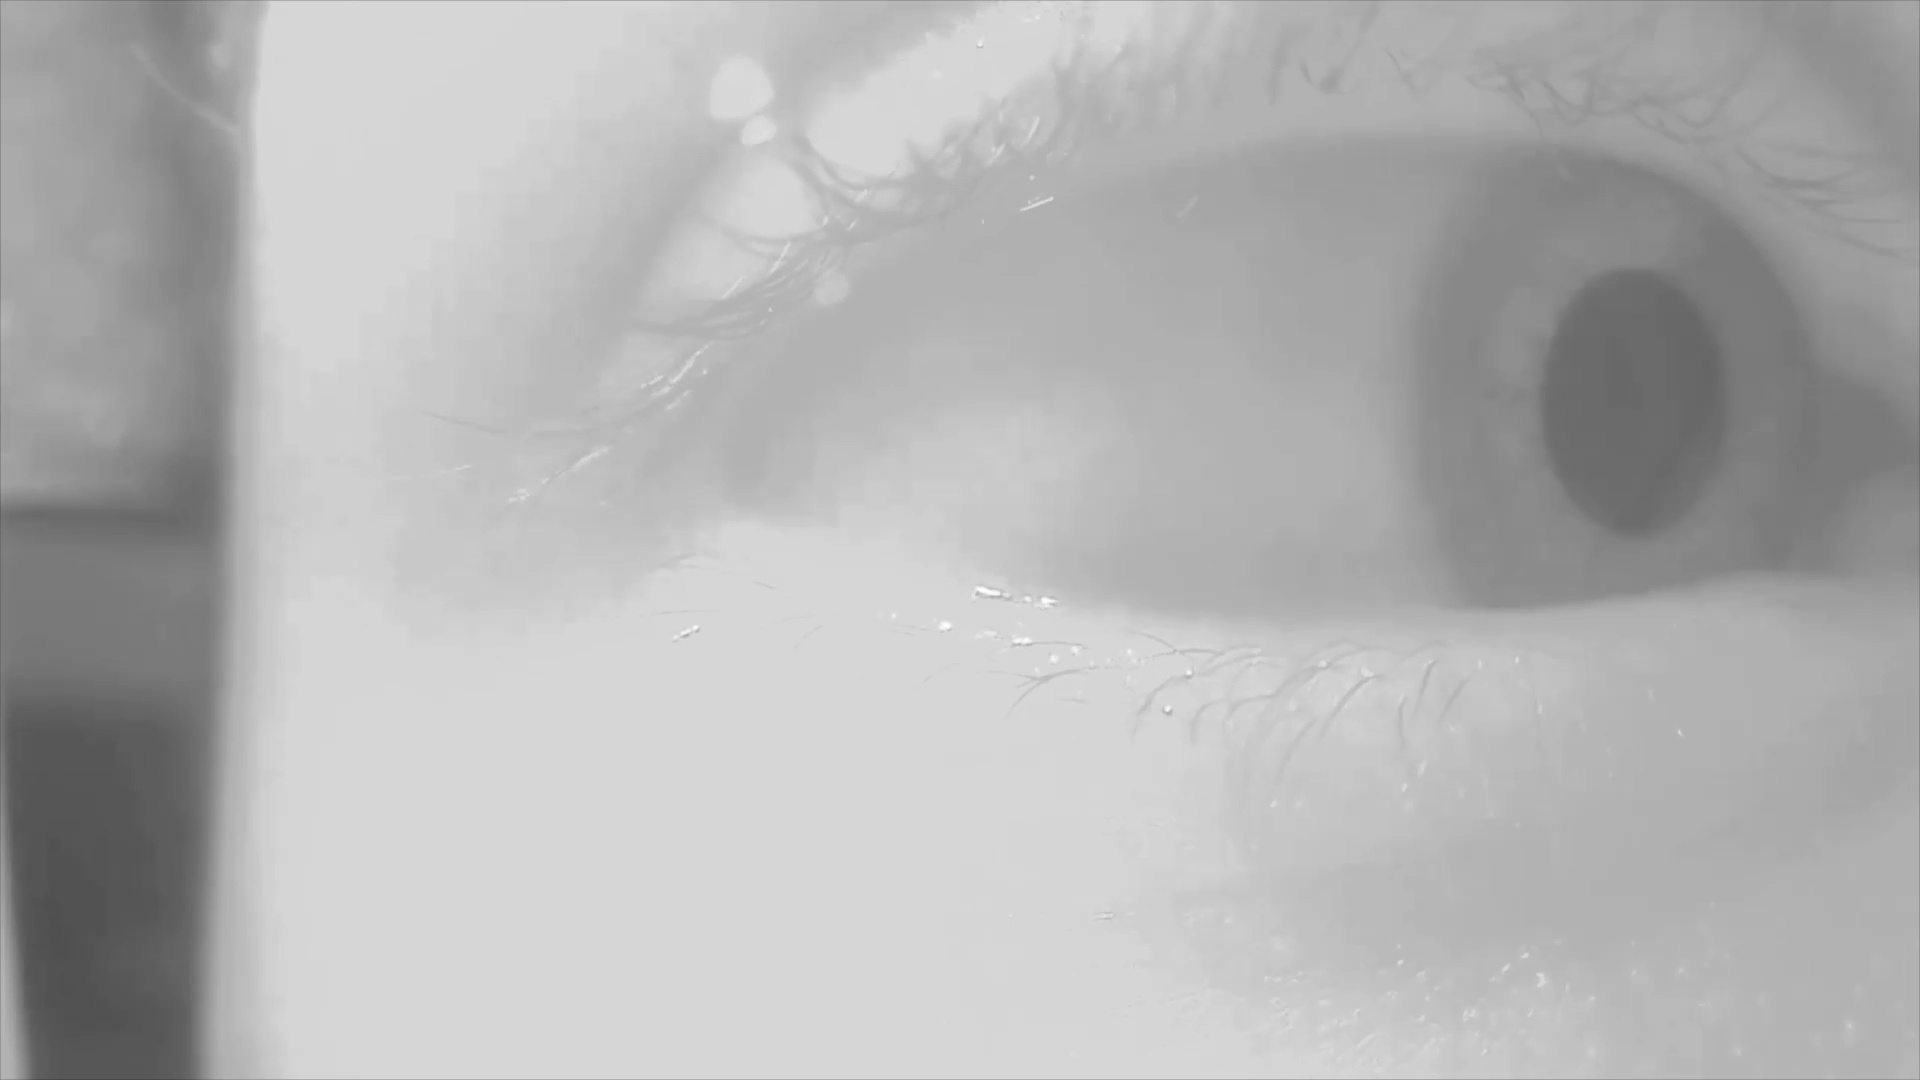pupil: (1547, 268, 1729, 540)
